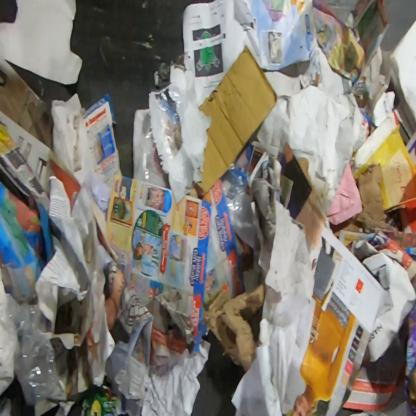cardboard: (195, 44, 279, 195), (0, 0, 84, 85), (203, 283, 265, 373), (84, 91, 123, 189), (356, 164, 388, 230), (403, 299, 415, 415)
soft_plastic: (5, 293, 60, 406), (135, 82, 189, 189), (220, 163, 248, 236)
